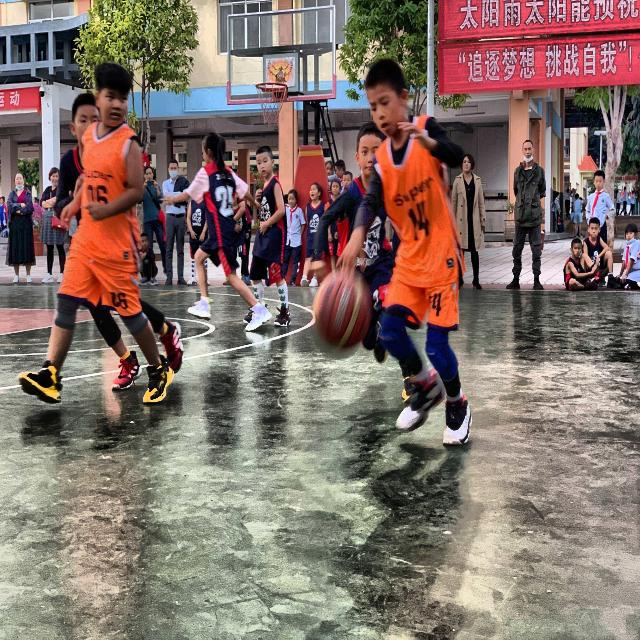board: (313, 268, 373, 349)
